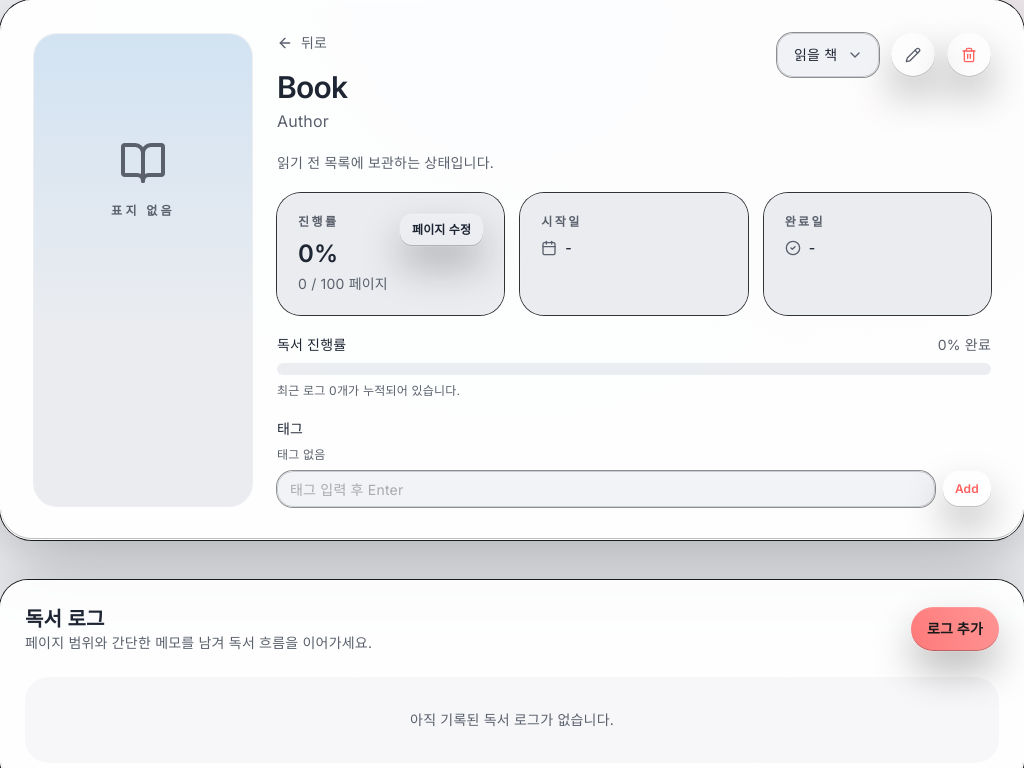
Test: BookDetailView › falls back to missing-book state after the undo window expires
Click the button named "Delete book".
click(969, 55)  # box x1=947 y1=33 x2=991 y2=77
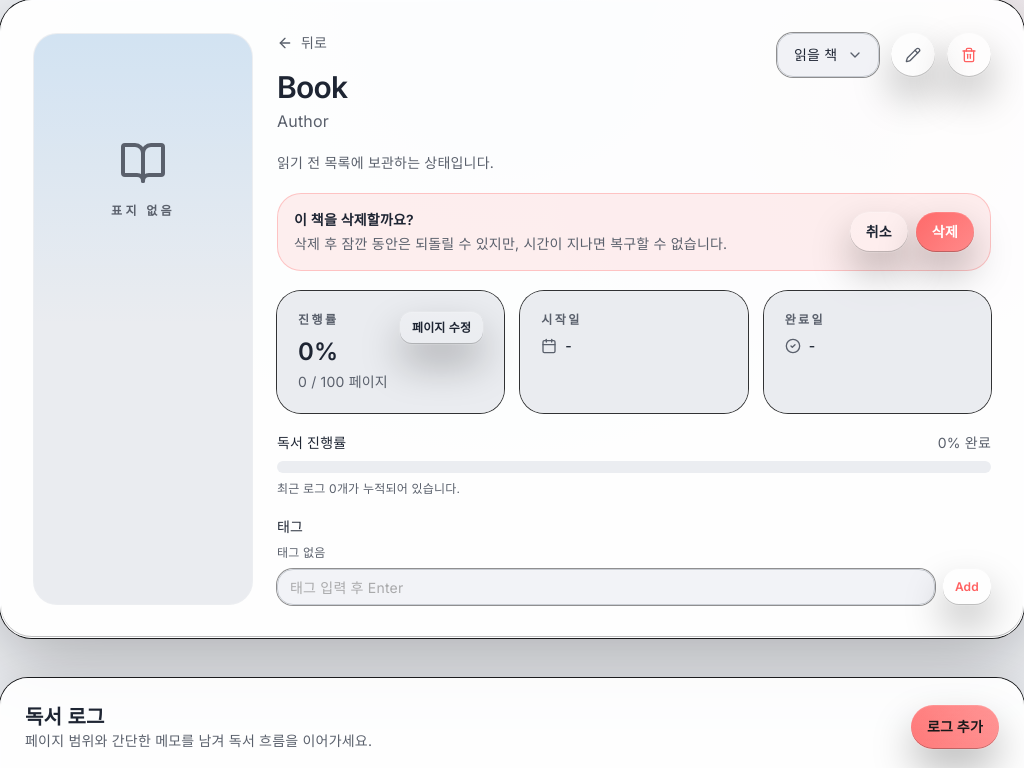
Click the button with aria-label "Confirm delete".
click(945, 232)  # box x1=916 y1=212 x2=974 y2=252
Wait 5000 ms
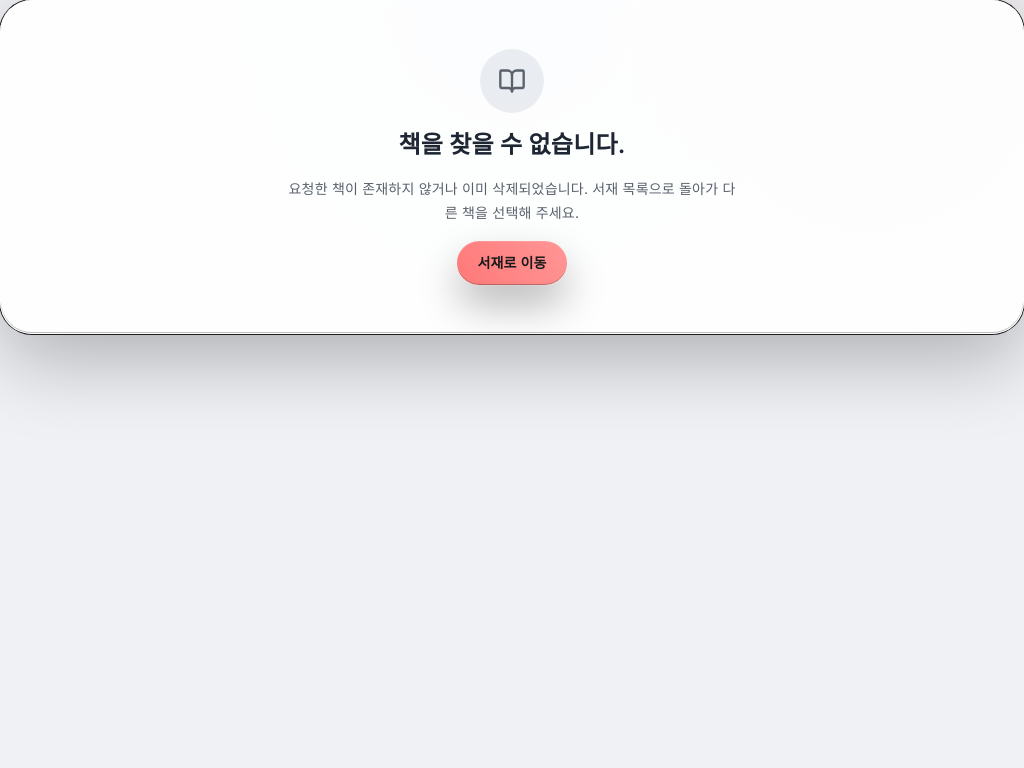
Expected: the text "책을 찾을 수 없습니다." is shown, x1=398 y1=129 x2=626 y2=161
